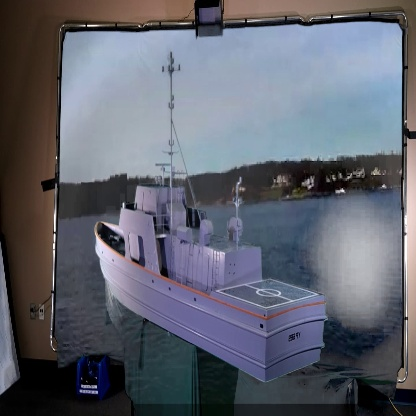YP689: (93, 49, 329, 384)
